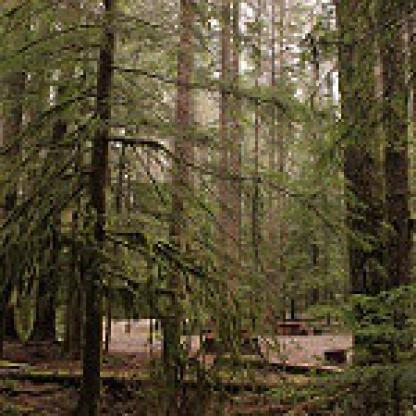trunk: (333, 0, 391, 369), (75, 0, 122, 402), (155, 0, 200, 366), (25, 58, 80, 341), (377, 3, 413, 363), (0, 0, 31, 341), (219, 0, 244, 358)
